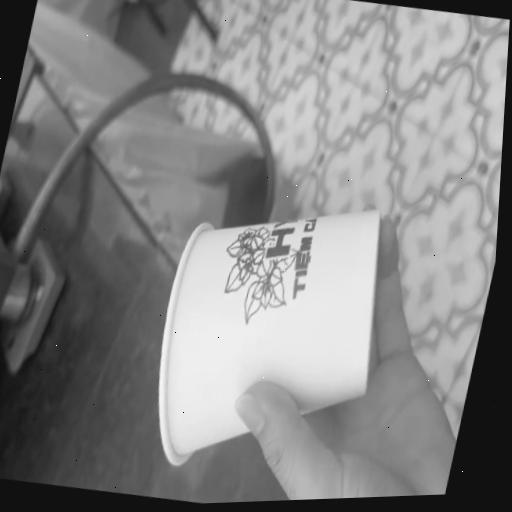Ly_giay: (159, 212, 380, 463)
